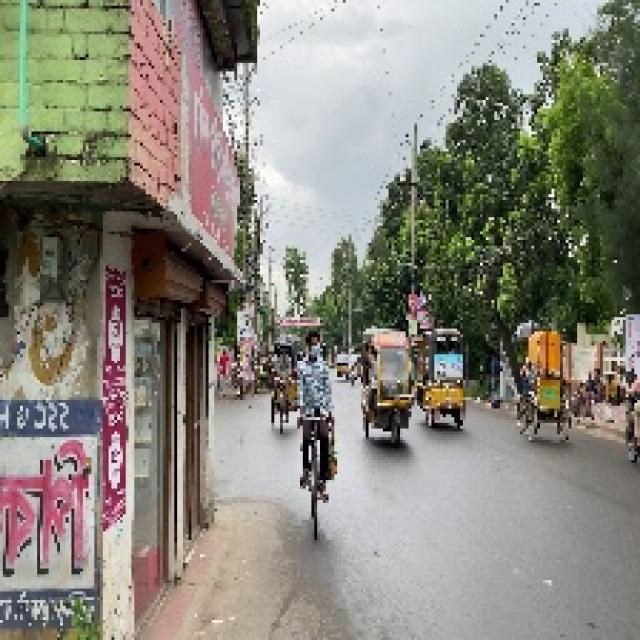rickshaw: (359, 328, 415, 446), (516, 329, 576, 439), (417, 311, 473, 426), (269, 349, 297, 430)
